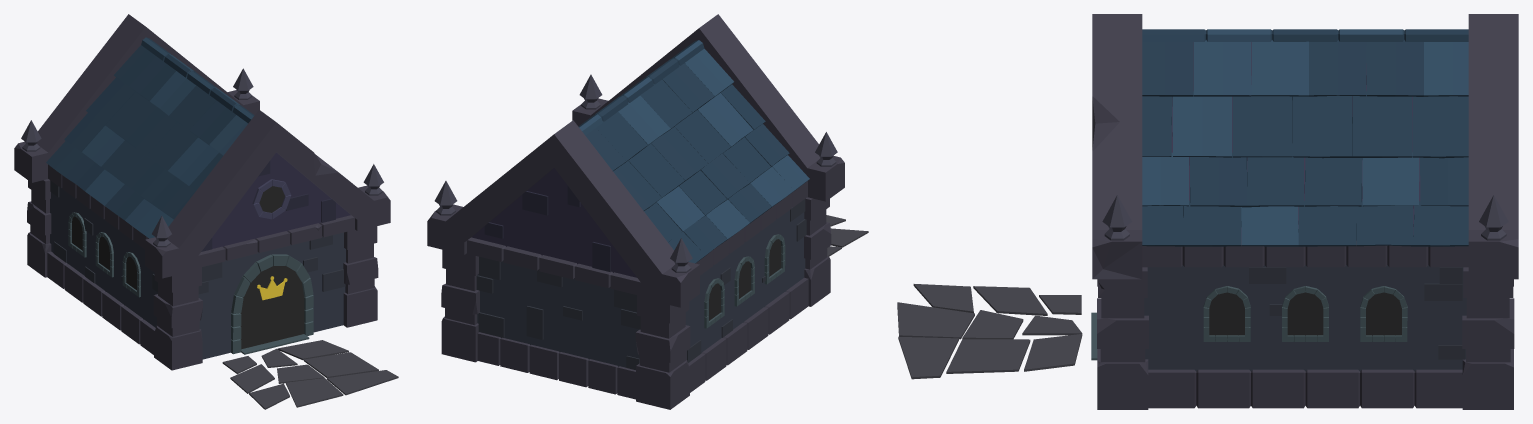
The model's file is MainCrypt2.fbx.
3 views of the same model, side by side, from view 1: azimuth 30°, elevation 25°; view 2: azimuth 150°, elevation 25°; view 3: azimuth 270°, elevation 25° (orthographic). The views are drawn at different scales.
Parts seen in each view (by area): view 1: MainCrypt; view 2: MainCrypt; view 3: MainCrypt.
Boxes of the visible parts, x1,y1,x2,y2 form: MainCrypt: (14,14,398,409); MainCrypt: (427,14,868,409); MainCrypt: (897,14,1518,409).
Size of the model in its own units: 974 by 915 by 1593.
